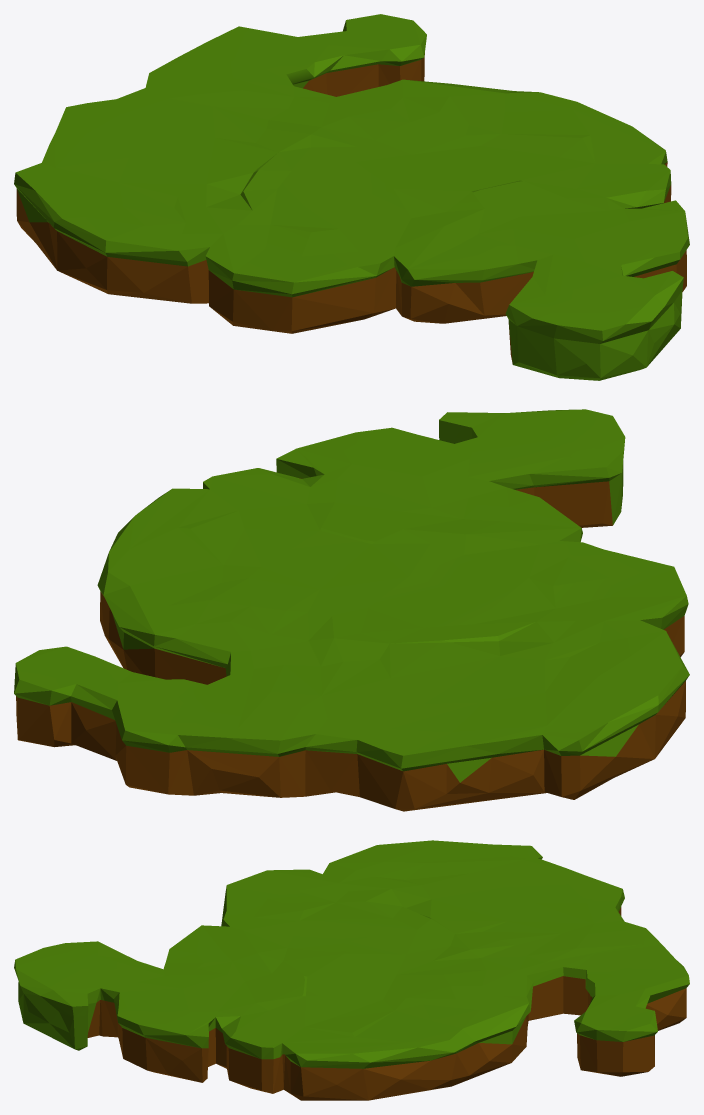
File: low_poly_island.glb
The picture shows the model from 3 angles, top to bottom: view 1: azimuth 30°, elevation 25°; view 2: azimuth 150°, elevation 25°; view 3: azimuth 270°, elevation 25°; orthographic projection. The views are drawn at different scales.
Parts seen in each view (by area): view 1: floating_island_1.1; view 2: floating_island_1.1; view 3: floating_island_1.1.
Part boxes in pixels (bbox=[...]): floating_island_1.1: bbox=[14, 14, 689, 380]; floating_island_1.1: bbox=[14, 409, 689, 811]; floating_island_1.1: bbox=[14, 840, 689, 1100].
Size of the model in its own units: 19.45 by 2.04 by 25.57.
